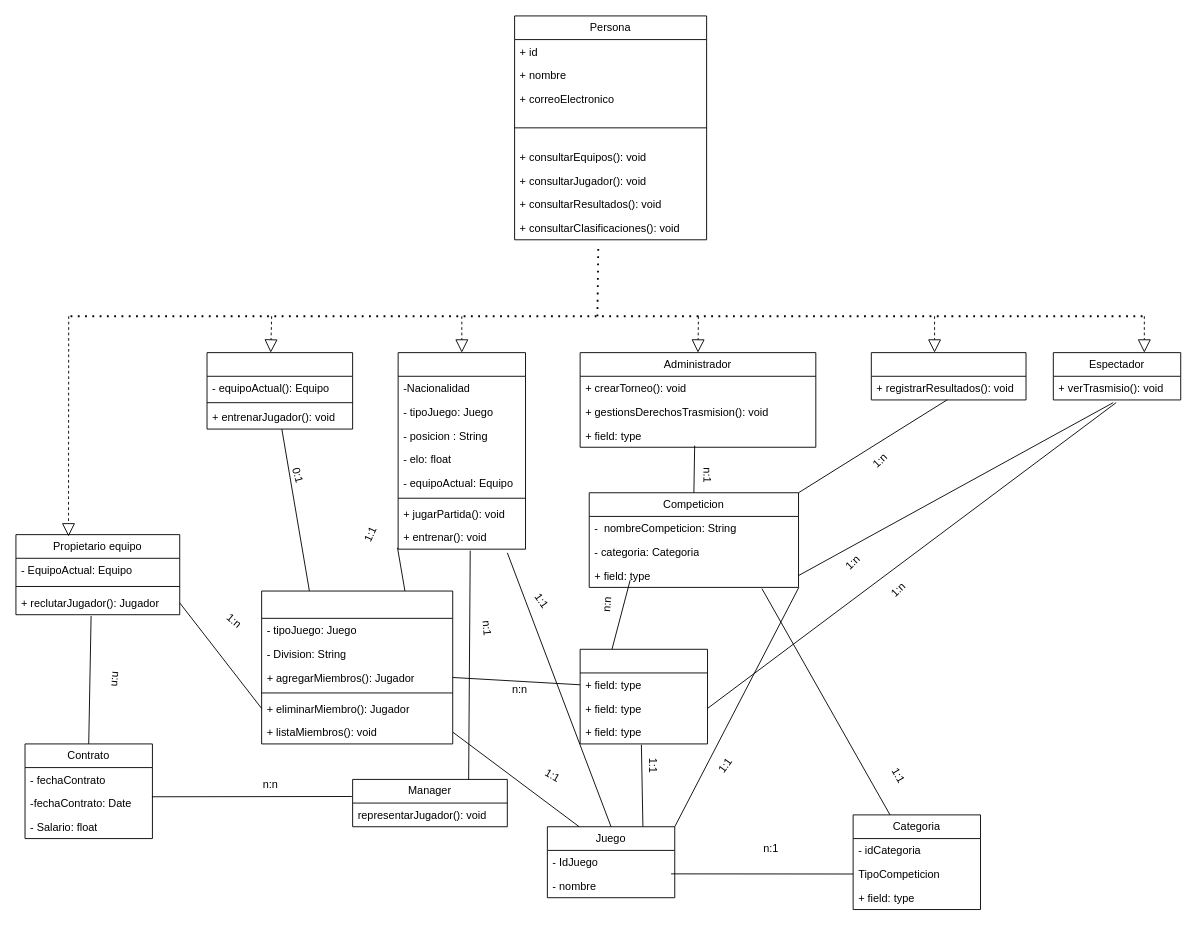
Image size: 1197x928. Some labels were removed from this diagram. Here are the shapes that lost their labels. From the top down, the box of each, then its label:
(206, 352, 353, 429): Entrenador
(870, 352, 1026, 400): Juez/Arbitro
(397, 352, 526, 549): Jugador
(261, 590, 453, 744): Equipo
(579, 648, 708, 744): Partida
